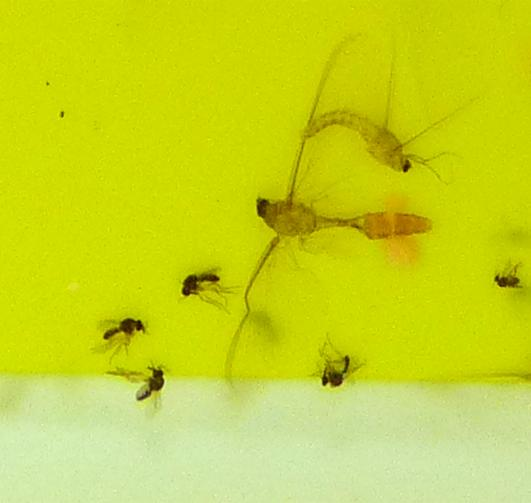Brachycera: (178, 265, 228, 299), (316, 352, 360, 390), (100, 314, 149, 348), (134, 363, 167, 403), (490, 257, 524, 291)
Ephemeroptera: (239, 106, 431, 332), (296, 100, 423, 181)
